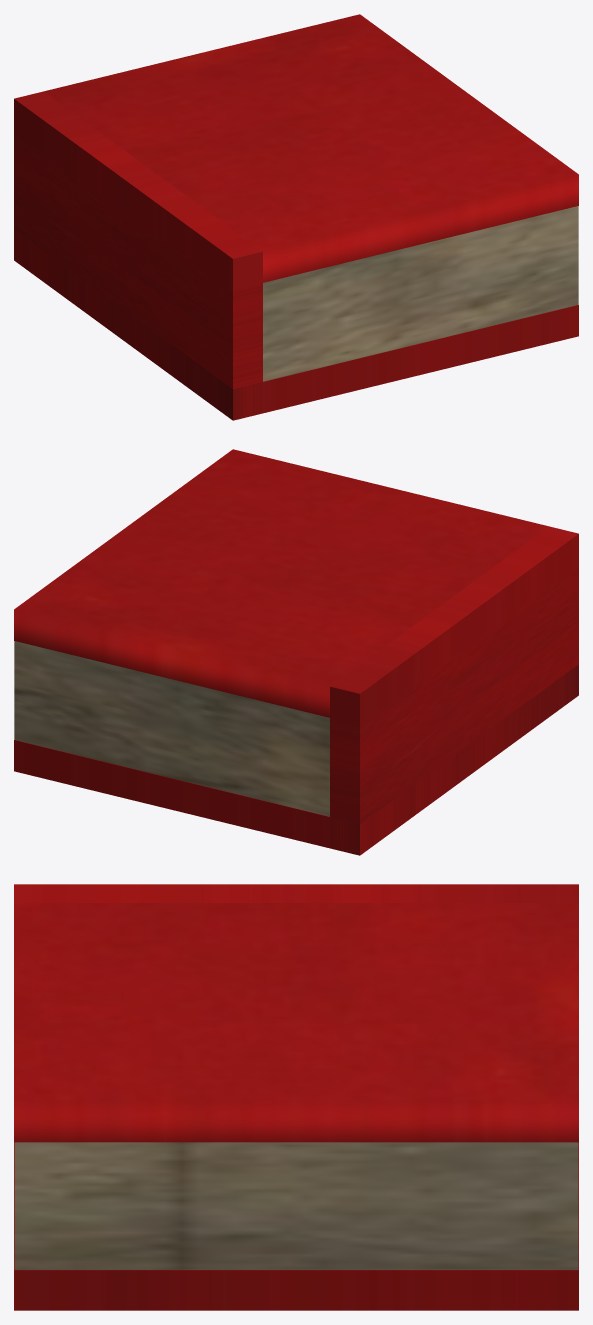
Rendered from BookClosed.fbx.
The picture shows the model from 3 angles, top to bottom: view 1: azimuth 30°, elevation 25°; view 2: azimuth 150°, elevation 25°; view 3: azimuth 270°, elevation 25°; orthographic projection. The views are drawn at different scales.
Parts seen in each view (by area): view 1: Cover, Pages; view 2: Cover, Pages; view 3: Cover, Pages.
Part boxes in pixels (bbox=[...]): Cover: bbox=[14, 14, 578, 420]; Pages: bbox=[263, 206, 578, 381]; Cover: bbox=[14, 449, 578, 855]; Pages: bbox=[14, 641, 329, 816]; Cover: bbox=[14, 884, 578, 1310]; Pages: bbox=[14, 1142, 578, 1269].
Size of the model in its own units: 0.5483 by 0.245 by 0.6011.
2 materials, 2 textured.
